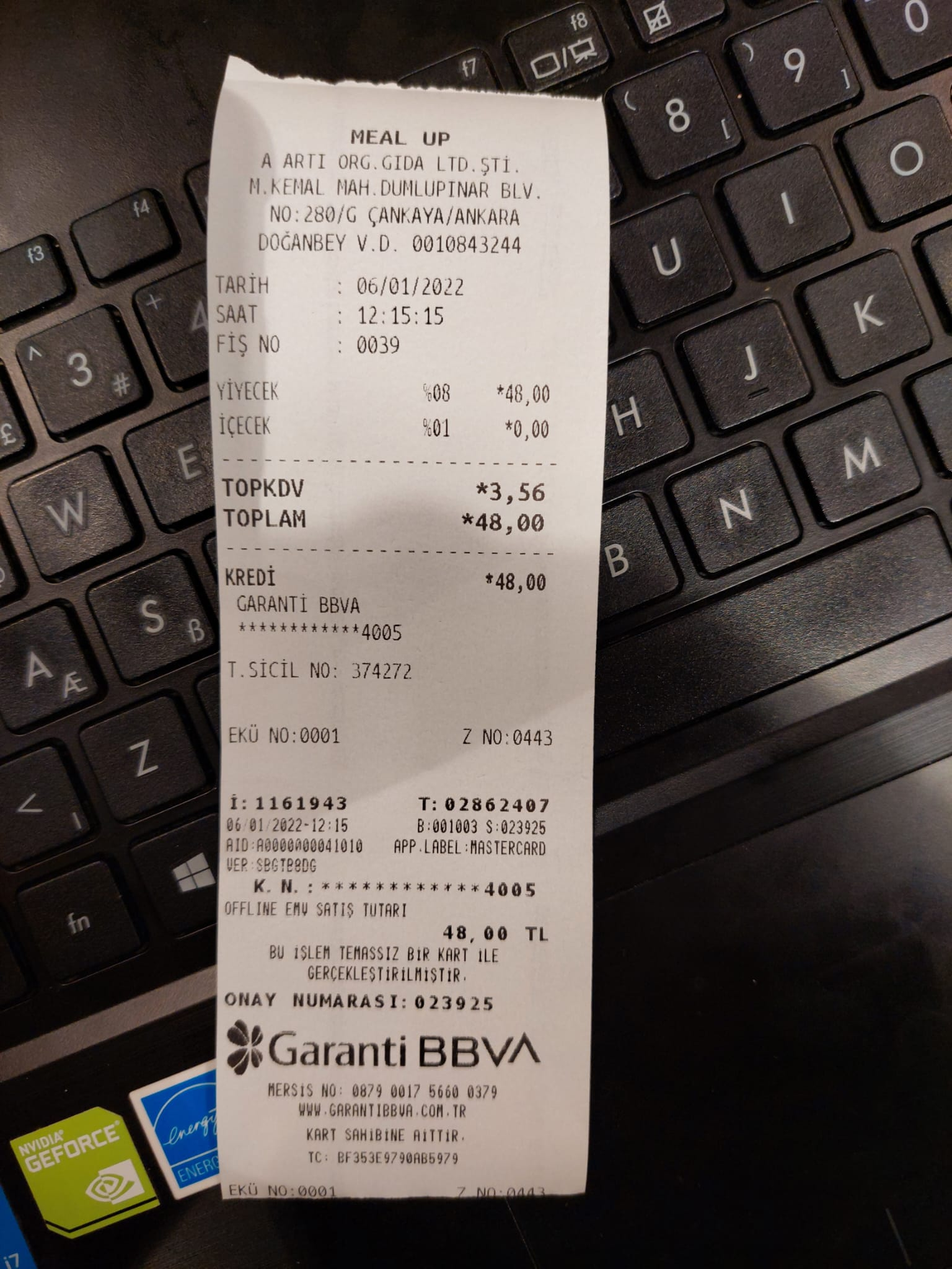date: (351, 272, 471, 302)
price: (474, 508, 557, 544)
workplace: (247, 116, 551, 235)
